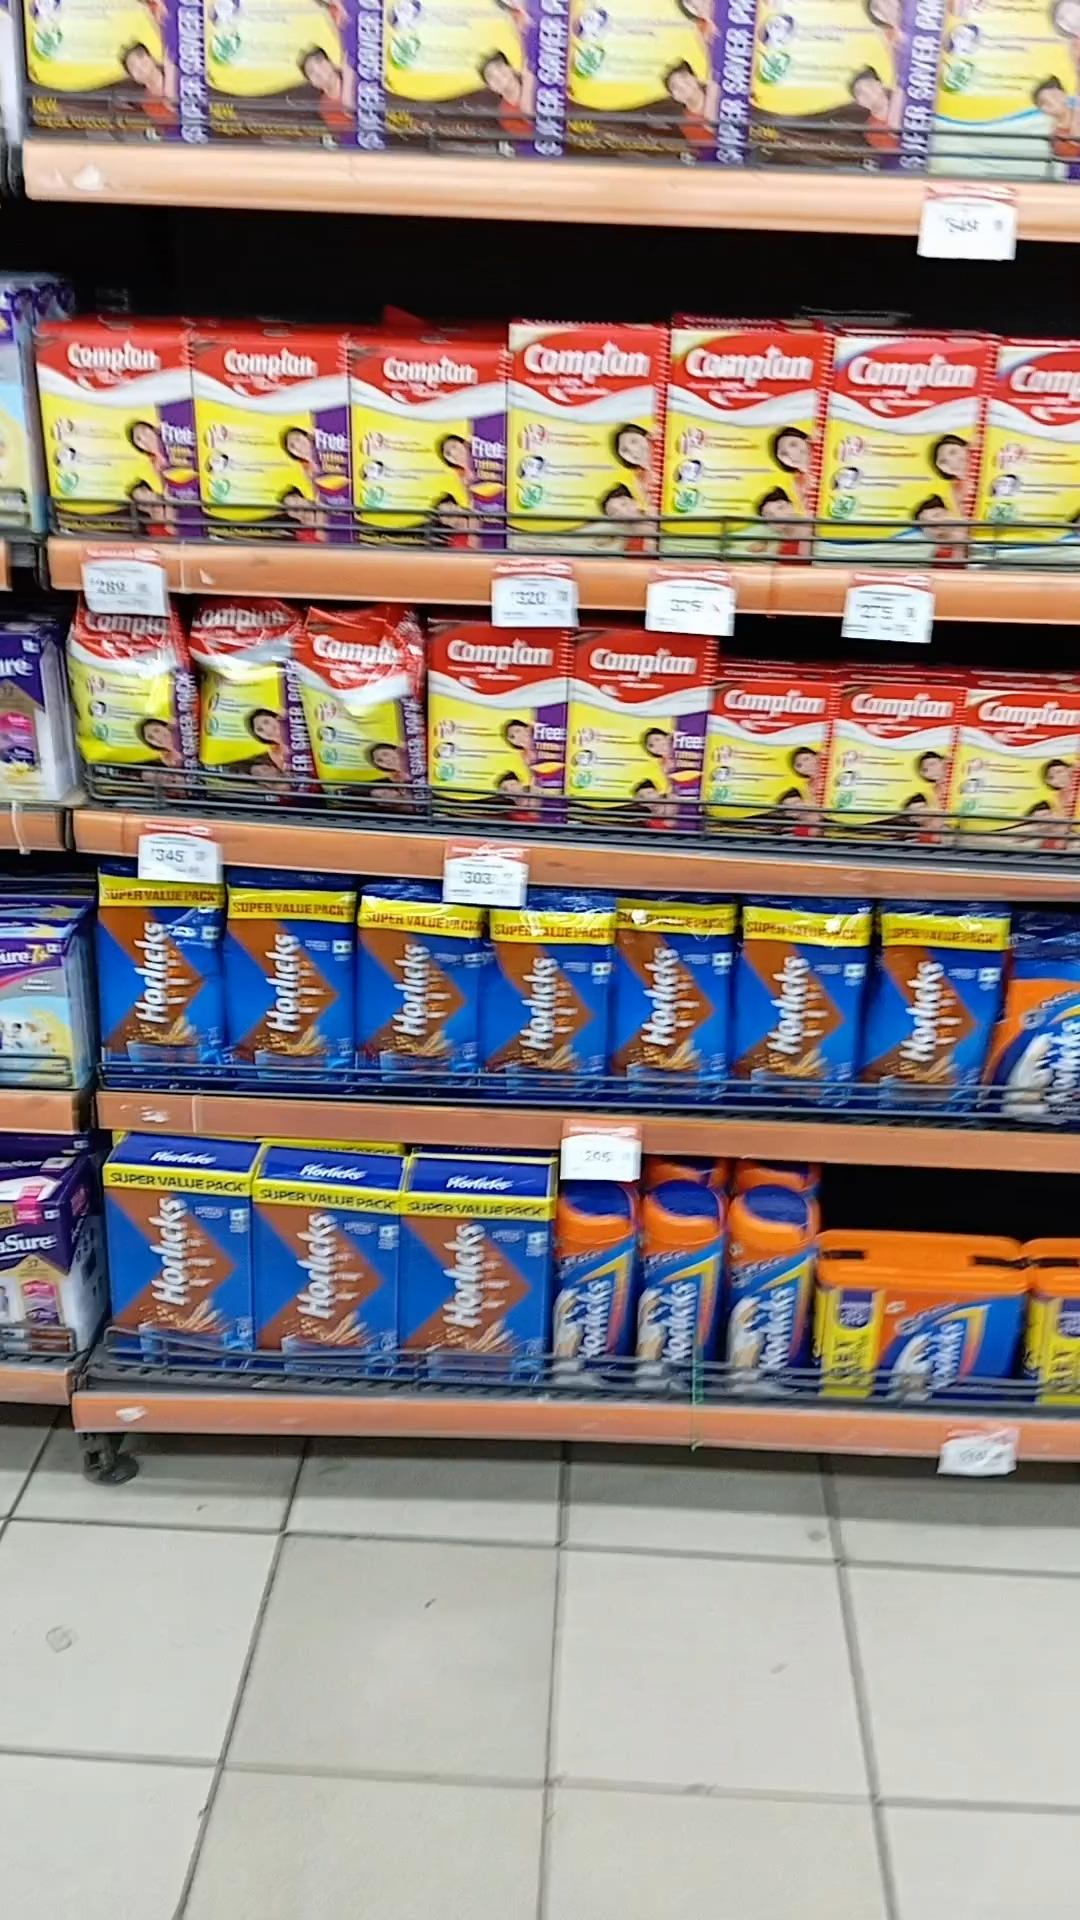COMPLAN_CHOCOLATE_1_KG_PACK: (427, 617, 549, 822), (570, 637, 694, 825)
COMPLAN_CHOCOLATE_500_GMS_PACK: (194, 336, 347, 549), (33, 330, 182, 541), (351, 343, 497, 554), (836, 686, 949, 843), (709, 680, 819, 837)
COMPLAN_CREAMY_CLASSIC_500_G_PACK: (831, 336, 972, 568), (977, 338, 1080, 570)
COMPLAN_KESAR_BADAM_500_GMS_PACK: (509, 323, 651, 556), (953, 678, 1080, 843)
COMPLAN_PISTA_BADAM_500_GMS_PACK: (673, 332, 816, 567)
COMPLAN_RC_POUCH_700_GMS_12: (186, 596, 293, 815), (298, 612, 402, 816), (67, 607, 173, 802)
HORLICK_CHOCOLATE_1_KG_PACK: (104, 1171, 247, 1370), (252, 1183, 396, 1378), (405, 1199, 545, 1385)
HORLICK_CHOCOLATE_750_G_POUCH: (488, 893, 611, 1109), (229, 877, 349, 1093), (878, 909, 992, 1127), (102, 881, 220, 1089), (745, 909, 860, 1120), (616, 898, 727, 1109), (363, 889, 472, 1096)
HORLICK_CLASSIC_MALT_750_G_POUCH: (993, 945, 1080, 1127)
HORLICK_MALT_1_KG_CONTAINER: (815, 1263, 1026, 1406)
